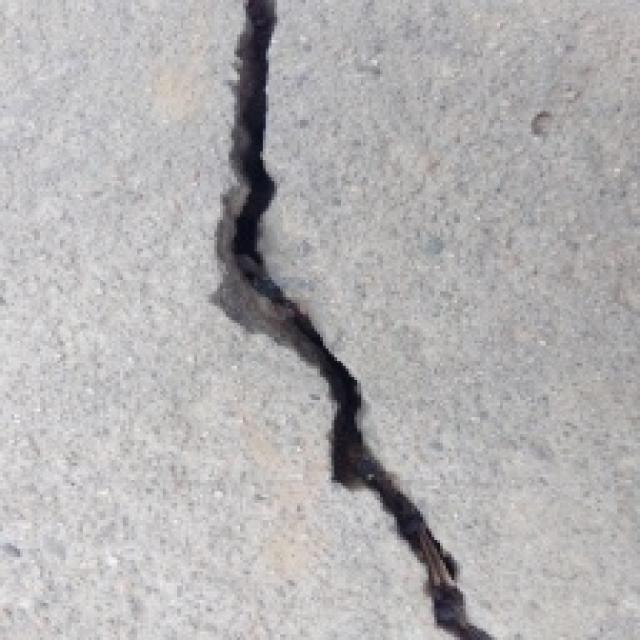crack: (168, 0, 504, 640)
